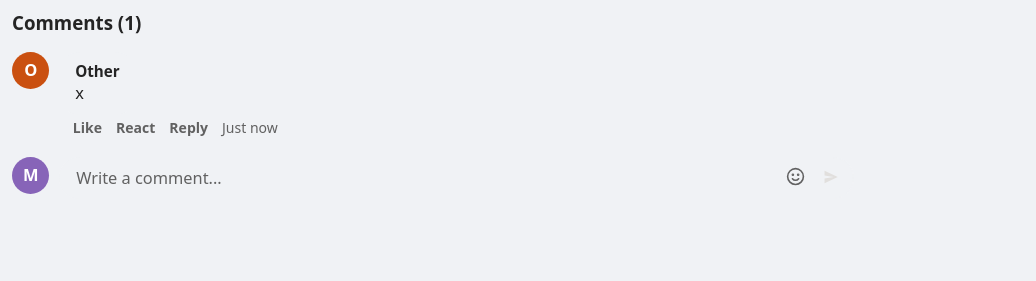
Test: TaskComments › should_showServerMessage_whenSelfReactionRejected
Click the button with test id "like" at (87, 129), box [73,119,102,138]
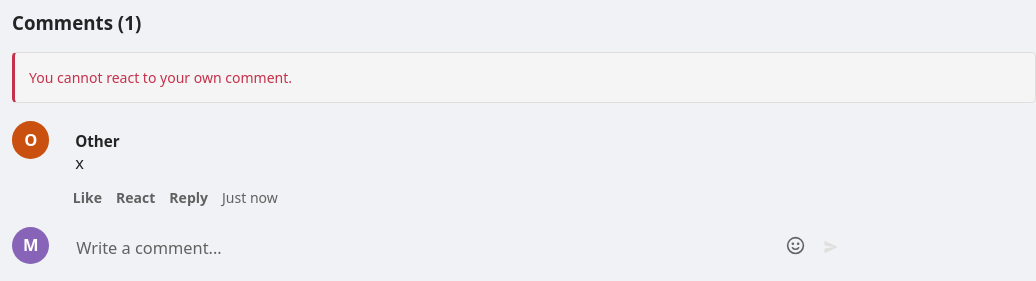
Check: the text "You cannot react to your own comment." is shown, box [29,68,292,87]
